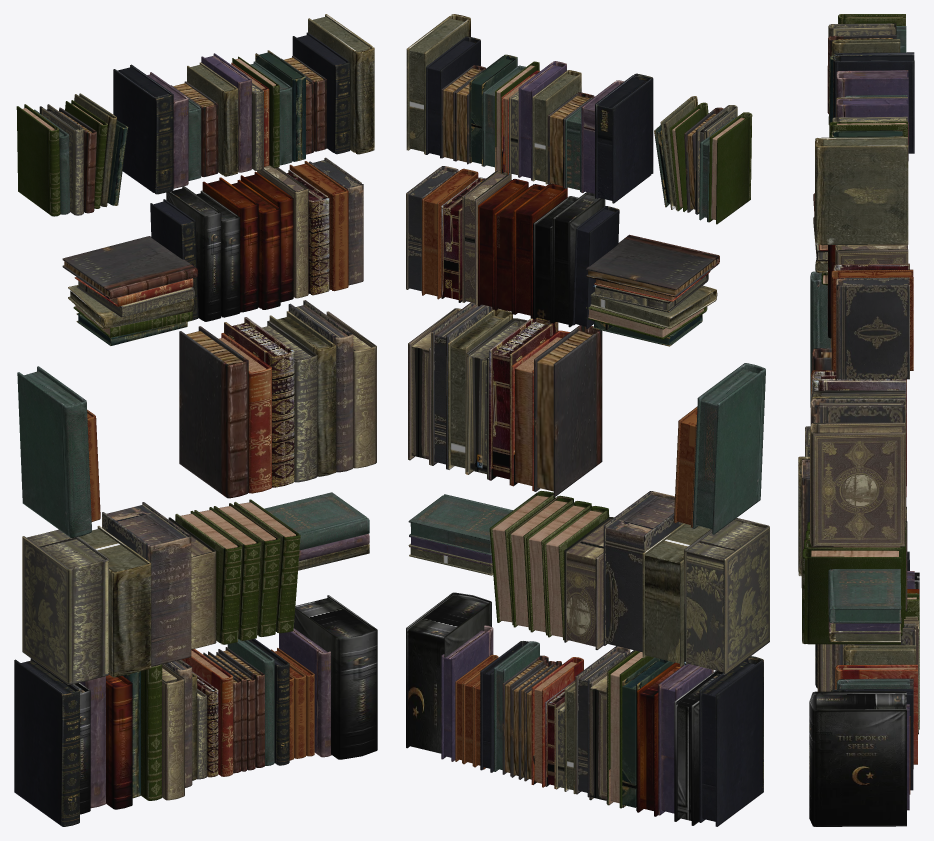
File: books.glb
3 views of the same model, side by side, from view 1: azimuth 30°, elevation 25°; view 2: azimuth 150°, elevation 25°; view 3: azimuth 270°, elevation 25° (orthographic). The views are drawn at different scales.
Visible parts, largest first — view 1: Cube.006 (×15); view 2: Cube.006 (×15); view 3: Cube.006 (×15).
Part boxes in pixels (x1,y1,x2,y2): Cube.006 (×15): (14, 14, 377, 826); Cube.006 (×15): (406, 14, 769, 826); Cube.006 (×15): (798, 14, 919, 826).
Size of the model in its own units: 0.8828 by 1.89 by 0.3046.
Materials: 15 (15 with a texture image).
